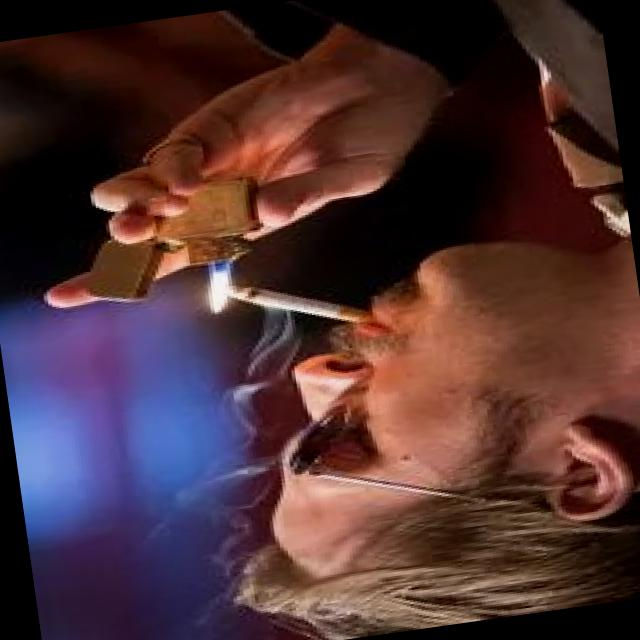smoke: (222, 264, 385, 344)
